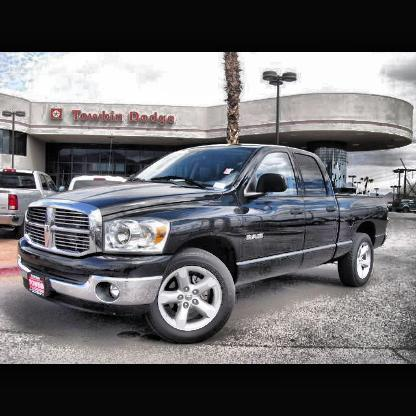Dodge Ram Pickup 3500 Quad Cab 2009: (20, 145, 389, 345)
